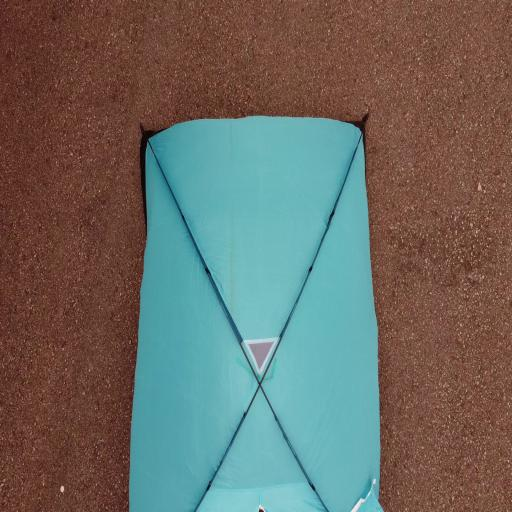tent: (128, 111, 386, 512)
